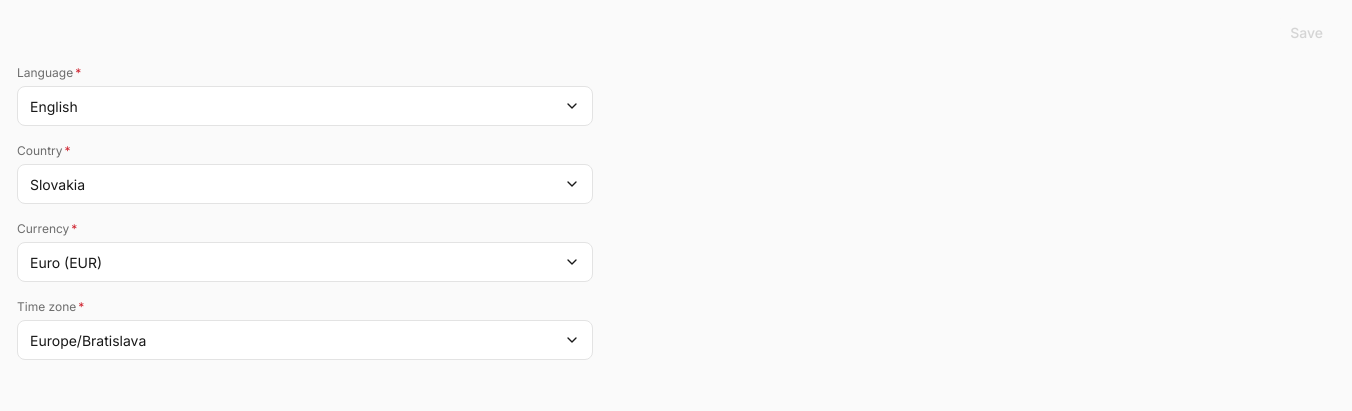
Studio settings › keeps Save disabled until a value changes
Expected: the button "Save" is disabled, x1=1278 y1=16 x2=1335 y2=48
Step 1. Click the dropdown named "Currency" → (66, 262), box x1=17 y1=242 x2=593 y2=282
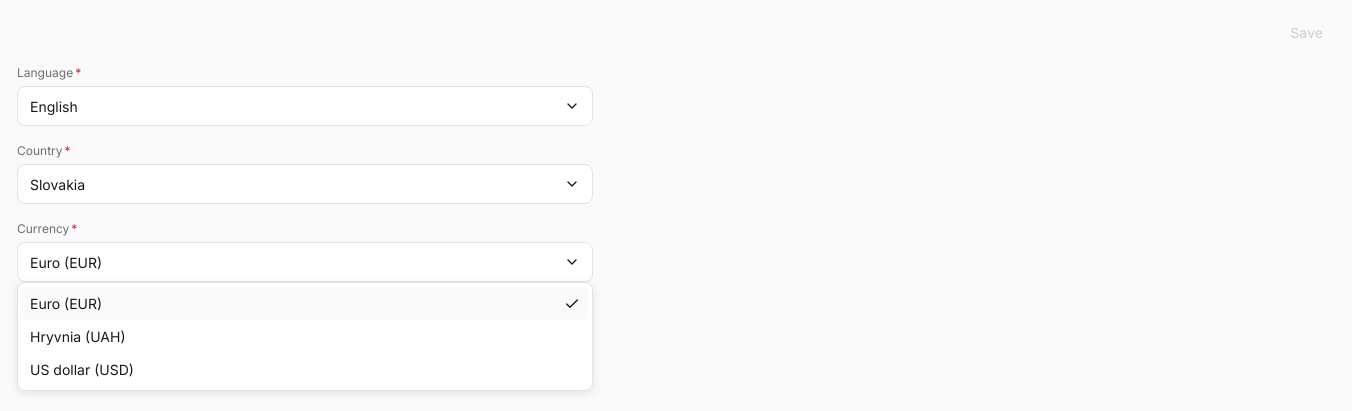
Step 2. Click the option "Hryvnia (UAH)" → (78, 336), box x1=30 y1=328 x2=126 y2=345
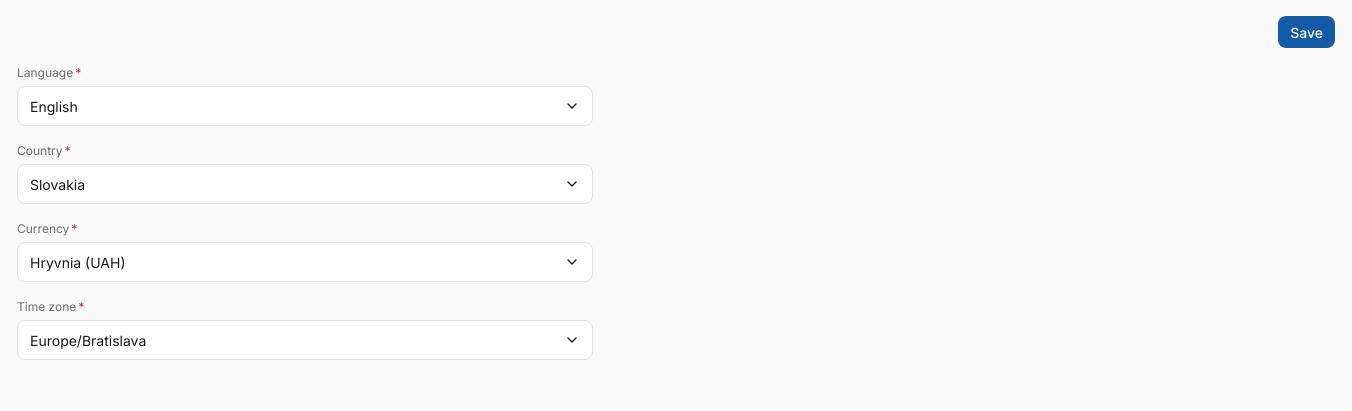
Result: the button "Save" is enabled at x1=1278 y1=16 x2=1335 y2=48
